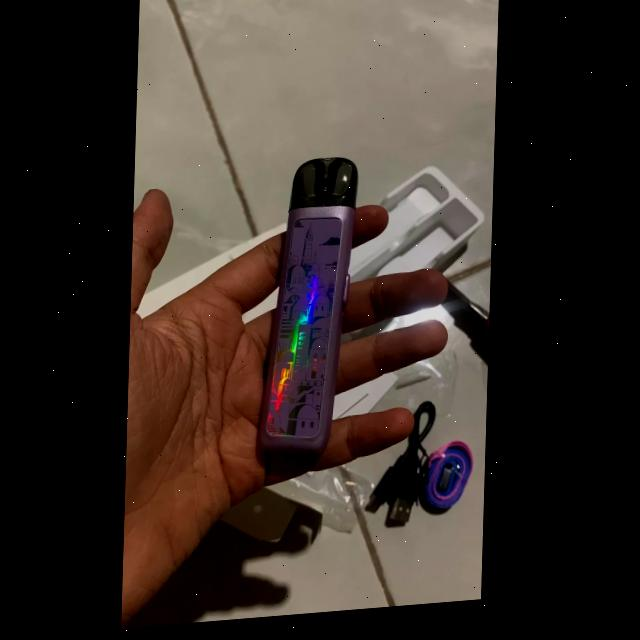vape: (262, 158, 360, 465)
